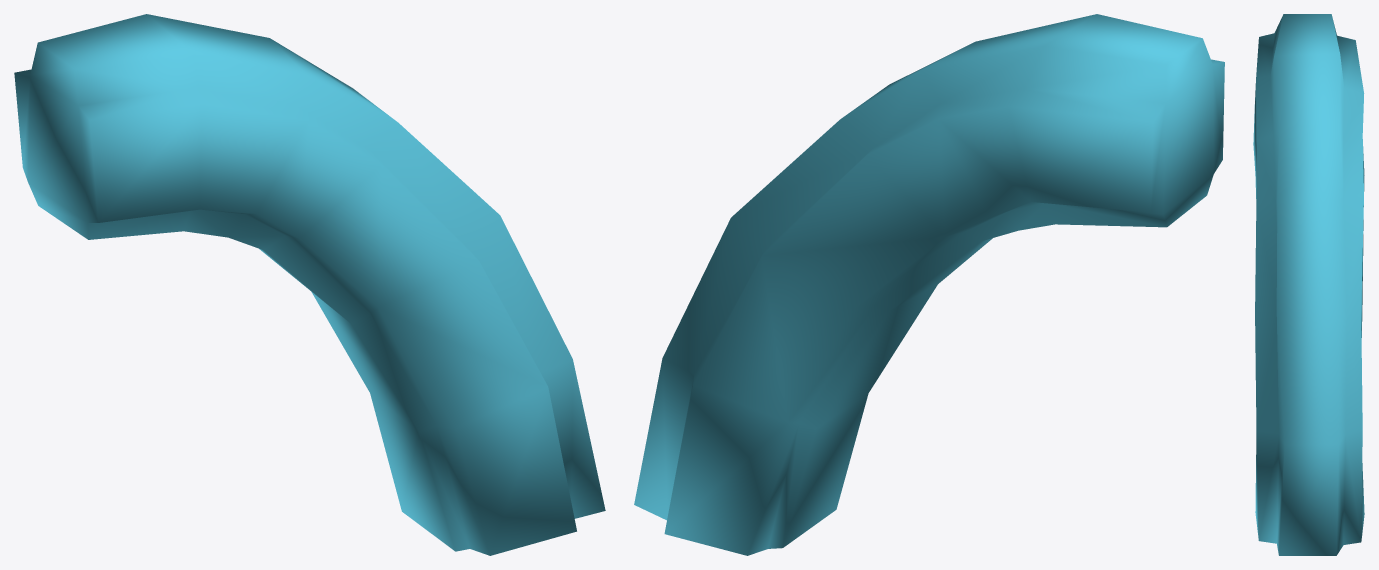
File: arc_02.FBX
The picture shows the model from 3 angles, left to right: view 1: azimuth 30°, elevation 25°; view 2: azimuth 150°, elevation 25°; view 3: azimuth 270°, elevation 25°; orthographic projection. The views are drawn at different scales.
Parts seen in each view (by area): view 1: arc_02; view 2: arc_02; view 3: arc_02.
Part boxes in pixels (x1=…): arc_02: x1=14, y1=14, x2=605, y2=555; arc_02: x1=634, y1=14, x2=1224, y2=555; arc_02: x1=1253, y1=14, x2=1364, y2=555.
Bounding box in the file's own units: 93.38 × 95.19 × 25.6.
